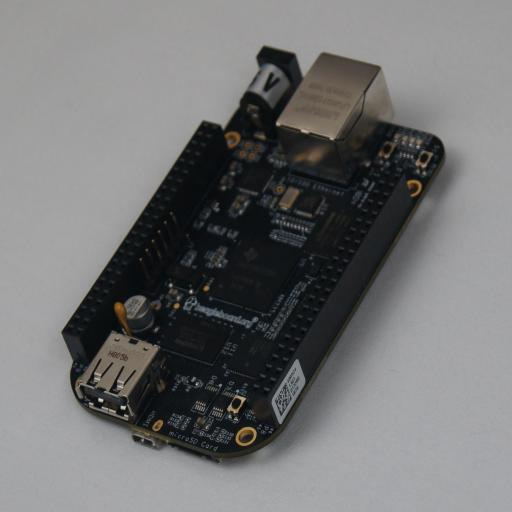Beaglebone Black: (62, 46, 450, 465)
